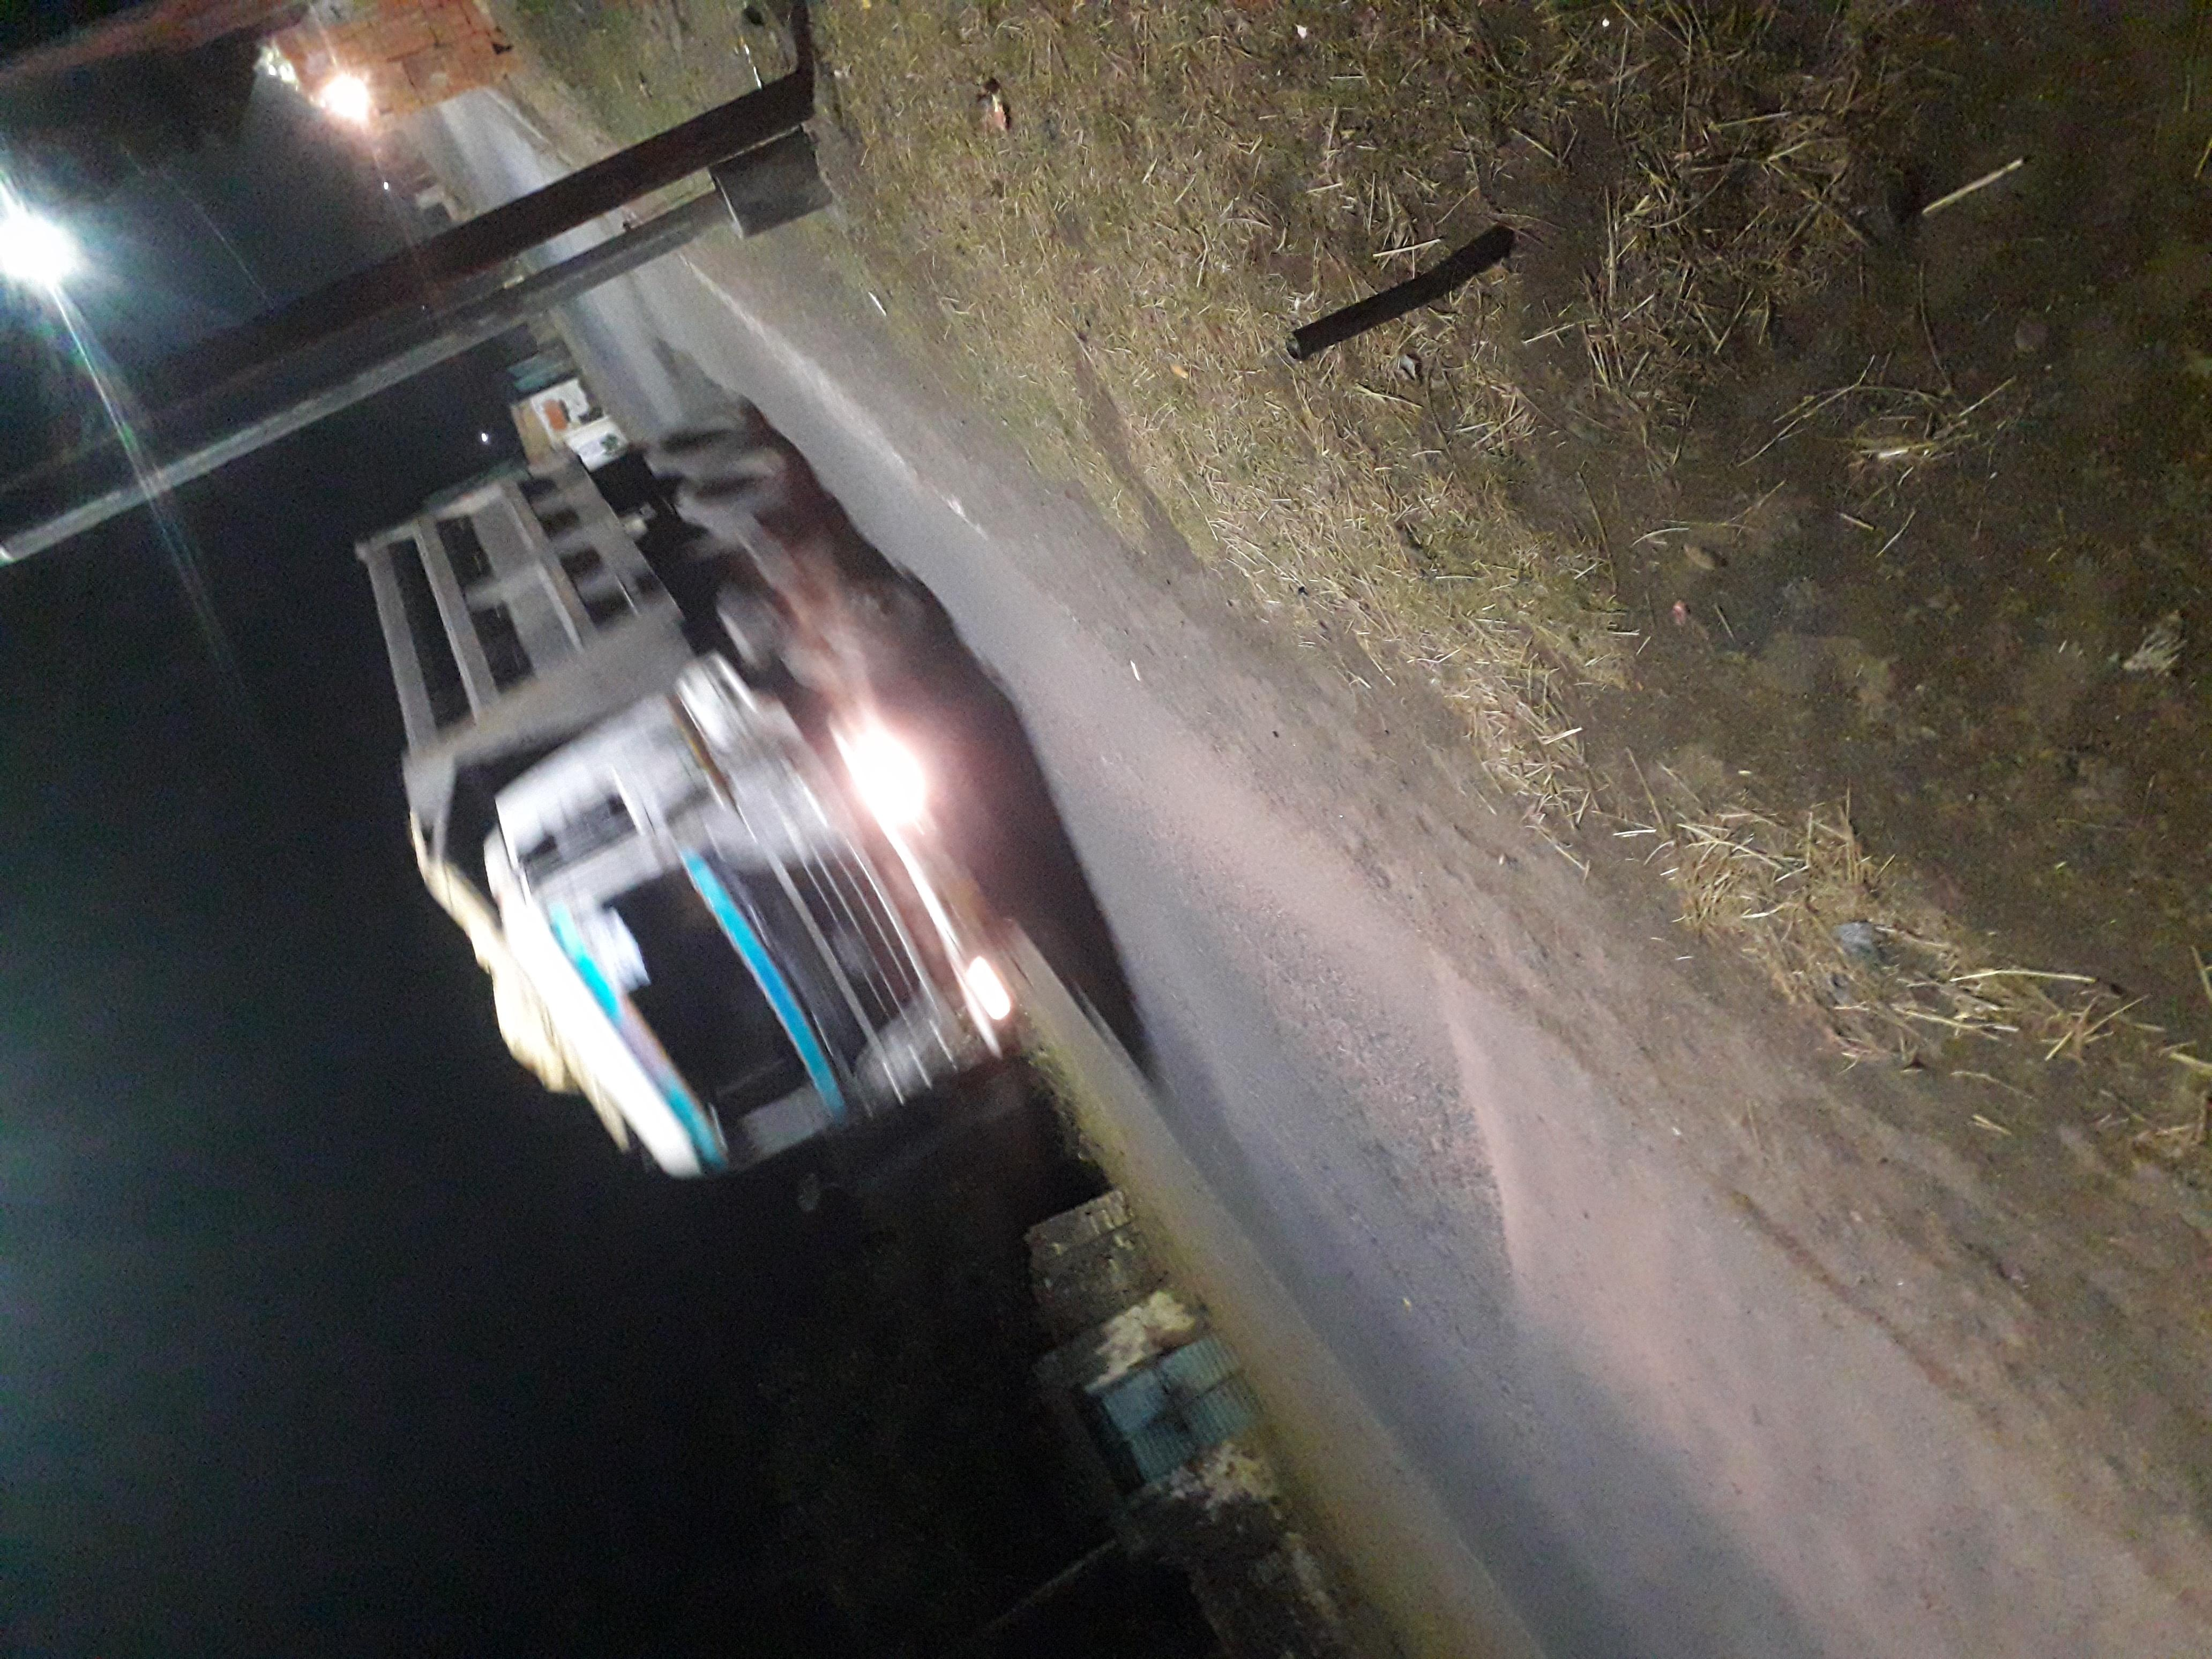Truck: (614, 264, 1712, 802)
